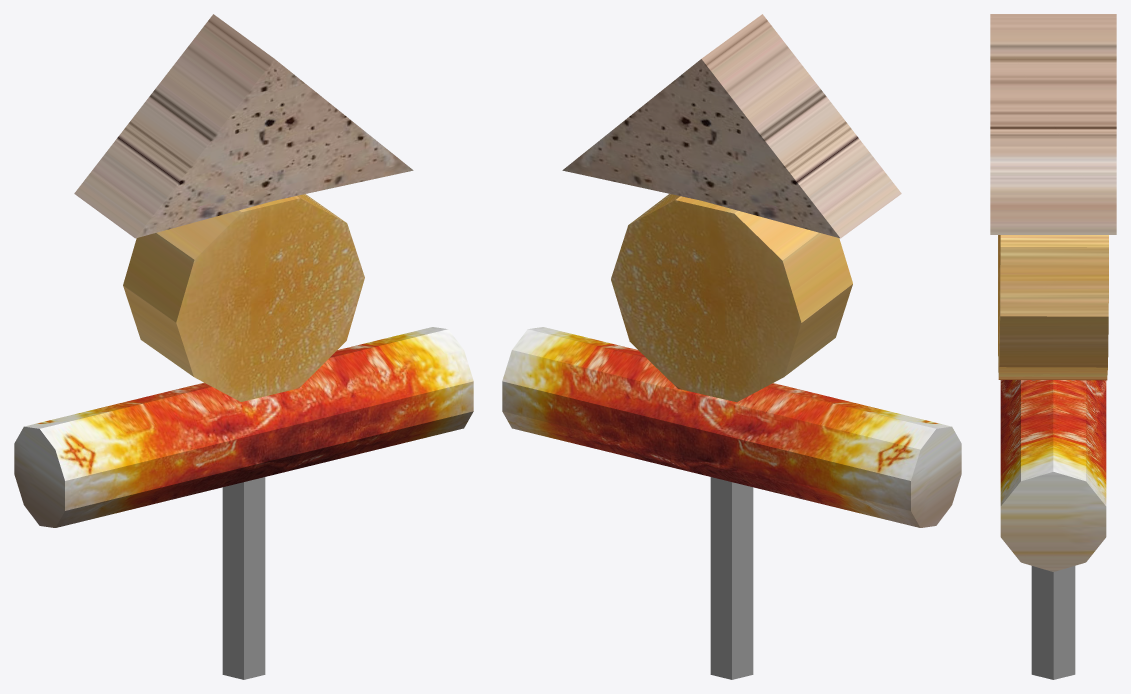
The model's file is oden.fbx.
3 renders of one model, left to right at view 1: azimuth 30°, elevation 25°; view 2: azimuth 150°, elevation 25°; view 3: azimuth 270°, elevation 25°, orthographic. The views are drawn at different scales.
Parts seen in each view (by area): view 1: pCylinder5; view 2: pCylinder5; view 3: pCylinder5.
Boxes of the visible parts, bbox=[...] form: pCylinder5: bbox=[14, 14, 473, 679]; pCylinder5: bbox=[502, 14, 961, 679]; pCylinder5: bbox=[990, 14, 1116, 679].
Bounding box in the file's own units: 3.86 × 5.71 × 1.
2 materials, 1 textured.
